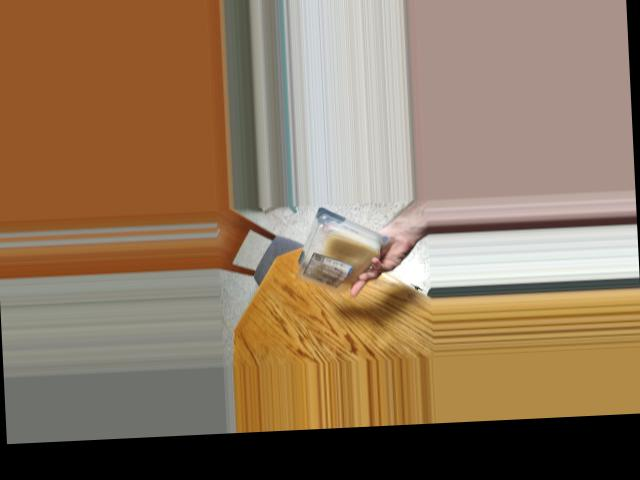cheese: (293, 211, 391, 280)
